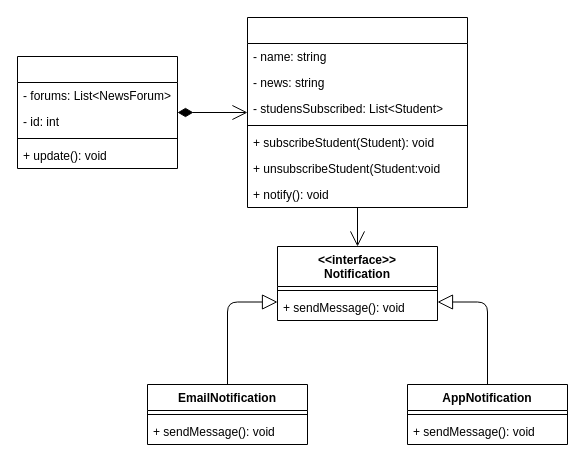
Some shapes in this 585 by 465 pixel diagram are drawn without their labels. Each missing label, with the box of its shape:
NewsForum: (246, 16, 468, 208)
Student: (16, 56, 178, 168)
